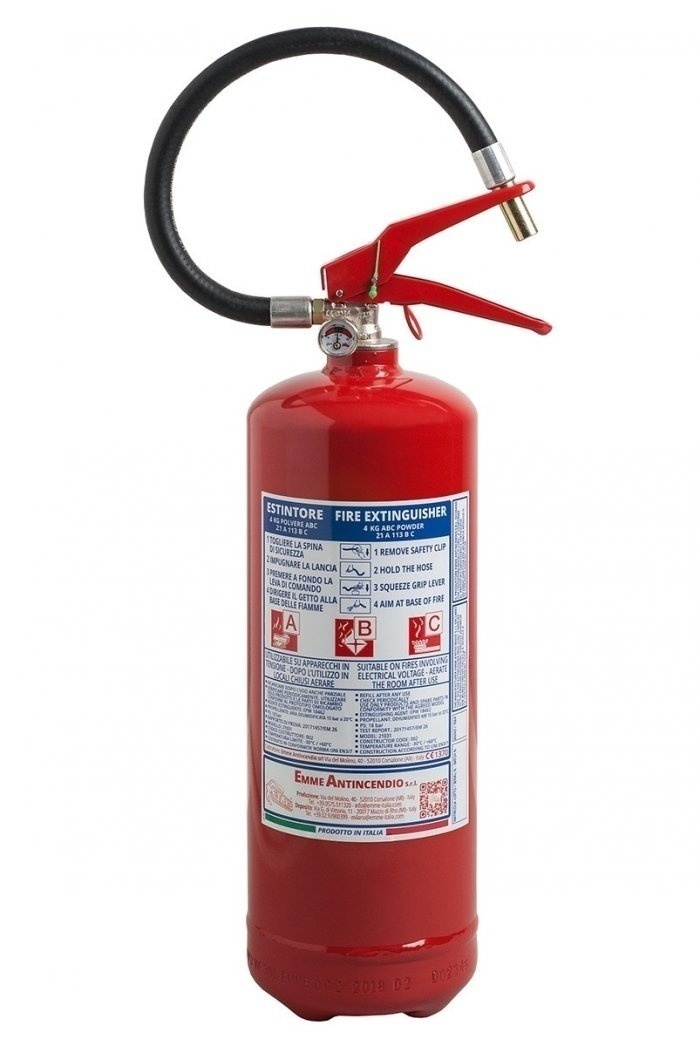fire_extinguisher: (143, 26, 554, 1022)
